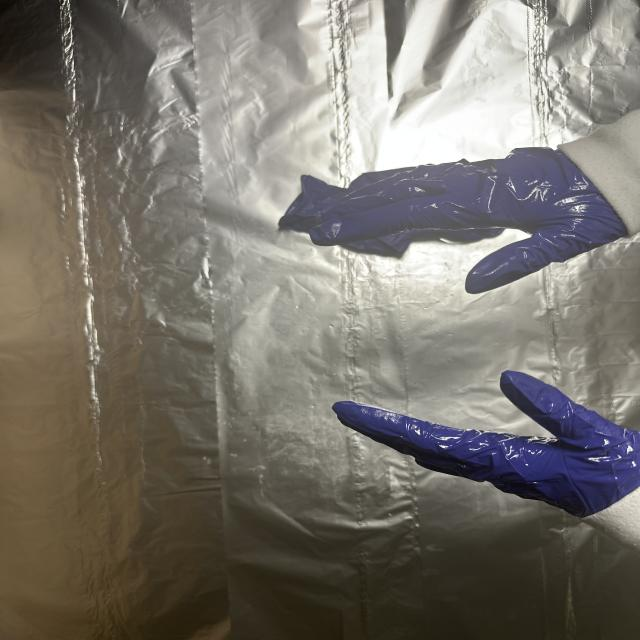gloves_contaminated: (310, 110, 640, 294), (332, 371, 640, 550)
